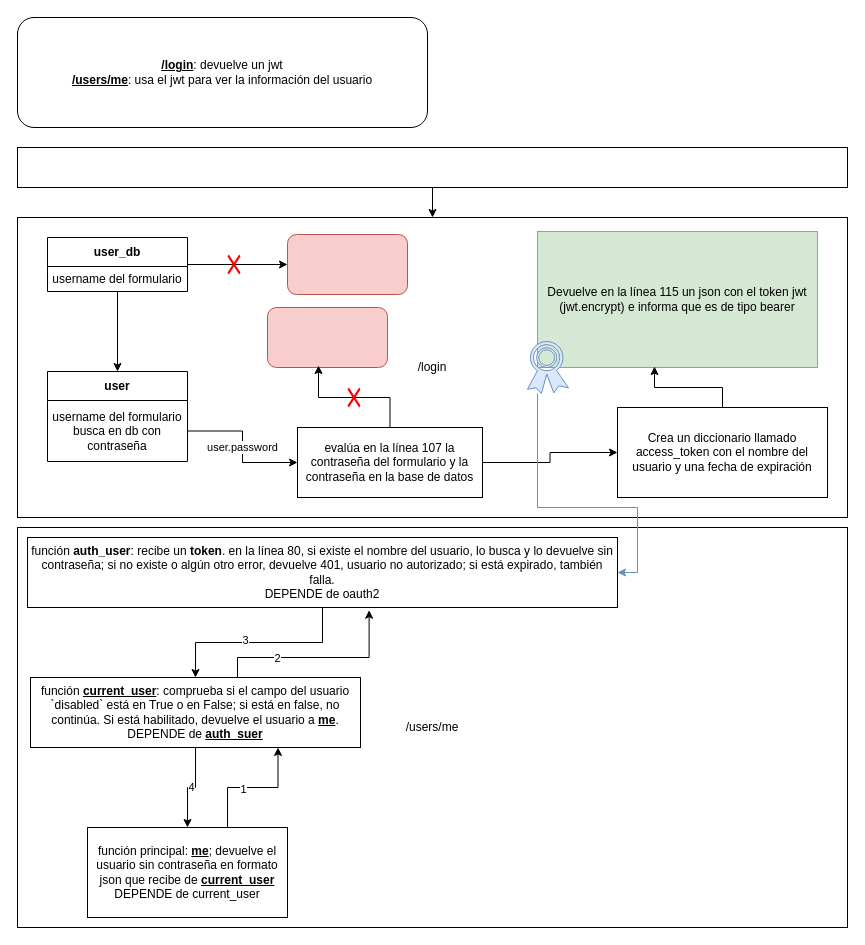
The diagram is 865 pixels wide and 945 high, and some of its shapes have lost their labels. The shapes that lost their labels are listed below. From the top down, each one's centre as x and y in pixels, then its label:
At point 432,167: "POST a /login form con username y password".
At point 347,264: "el usuario no está en la base de datos".
At point 327,337: "contraseña incorrecta".
